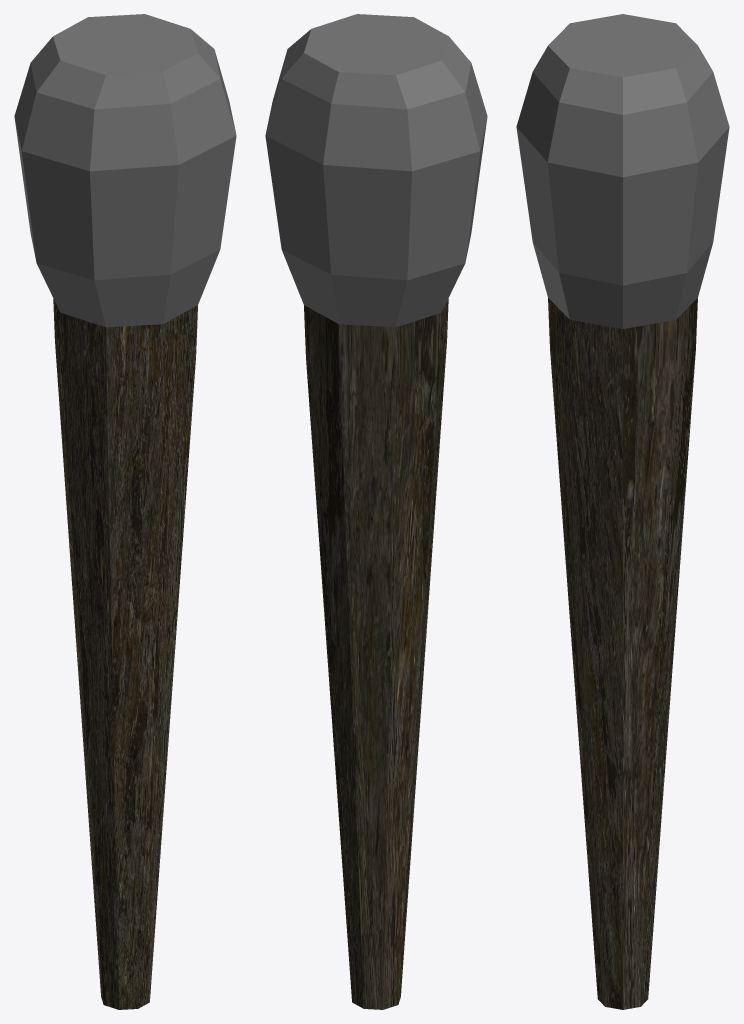
Rendered from Torch.fbx.
The picture shows the model from 3 angles, left to right: view 1: azimuth 30°, elevation 25°; view 2: azimuth 150°, elevation 25°; view 3: azimuth 270°, elevation 25°; orthographic projection.
Parts seen in each view (by area): view 1: Torch; view 2: Torch; view 3: Torch.
Boxes of the visible parts, <box> form: Torch: <box>14,14,236,1009</box>; Torch: <box>265,14,487,1009</box>; Torch: <box>516,14,729,1009</box>.
Size of the model in its own units: 319 by 1402 by 284.
Materials: 2 (1 with a texture image).
